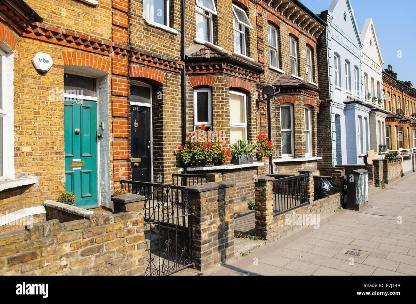door: (60, 61, 107, 216), (124, 77, 162, 194)
